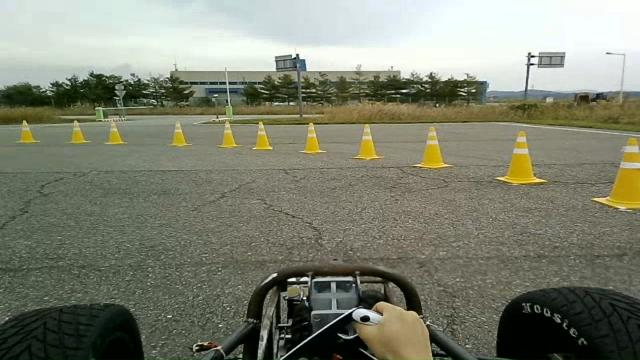yellow cone: (590, 137, 639, 210), (493, 130, 548, 185), (412, 126, 452, 168), (350, 123, 384, 160), (297, 121, 326, 154), (216, 120, 242, 148), (166, 120, 192, 147), (65, 119, 91, 144), (251, 121, 273, 150), (14, 120, 40, 144), (104, 121, 127, 144)
